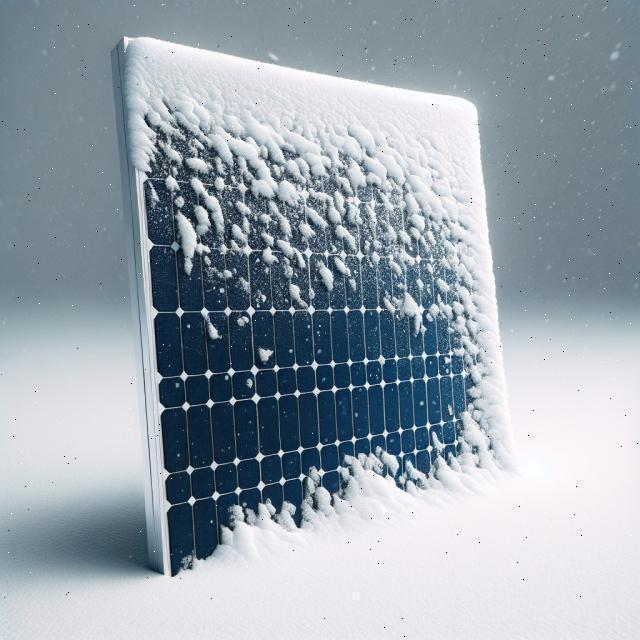Anomaly Solar Panel: (97, 0, 533, 581)
Snow: (98, 0, 532, 581)
